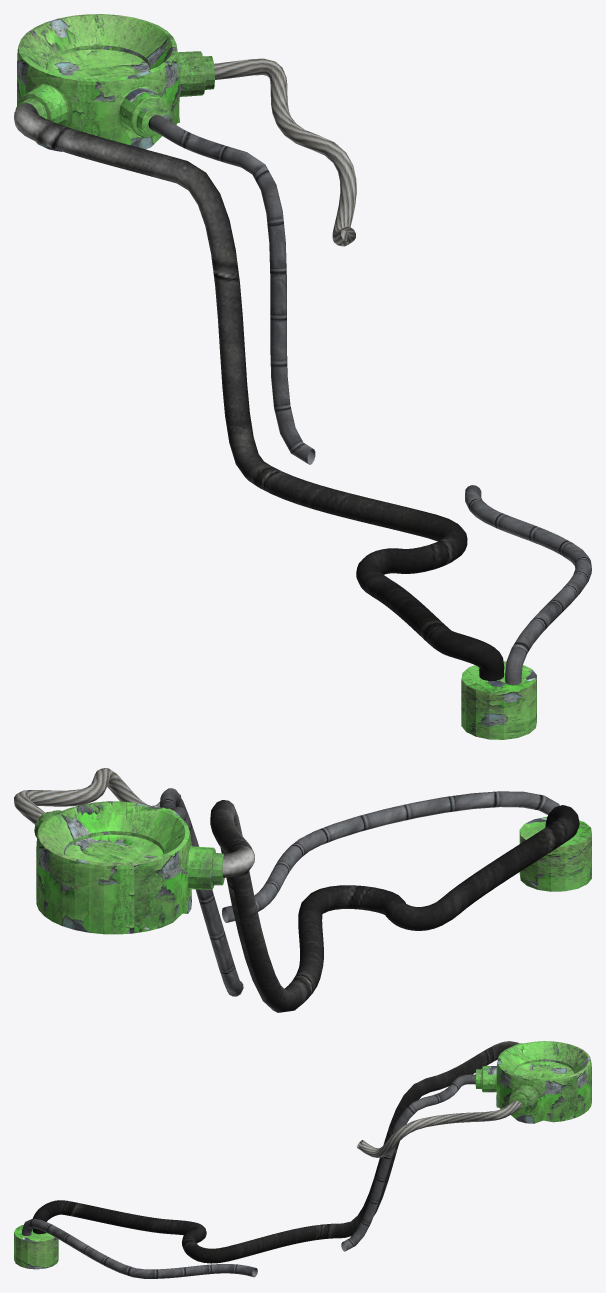
The model's file is kable_up_2.fbx.
3 views of the same model, one above another, from view 1: azimuth 30°, elevation 25°; view 2: azimuth 150°, elevation 25°; view 3: azimuth 270°, elevation 25° (orthographic). The views are drawn at different scales.
Parts seen in each view (by area): view 1: Cylinder.004; view 2: Cylinder.004; view 3: Cylinder.004.
Part boxes in pixels (bbox=[...]): Cylinder.004: bbox=[14, 14, 591, 739]; Cylinder.004: bbox=[14, 768, 591, 1012]; Cylinder.004: bbox=[14, 1041, 591, 1278].
Bounding box in the file's own units: 356 × 468 × 1174.
1 material, 1 textured.
